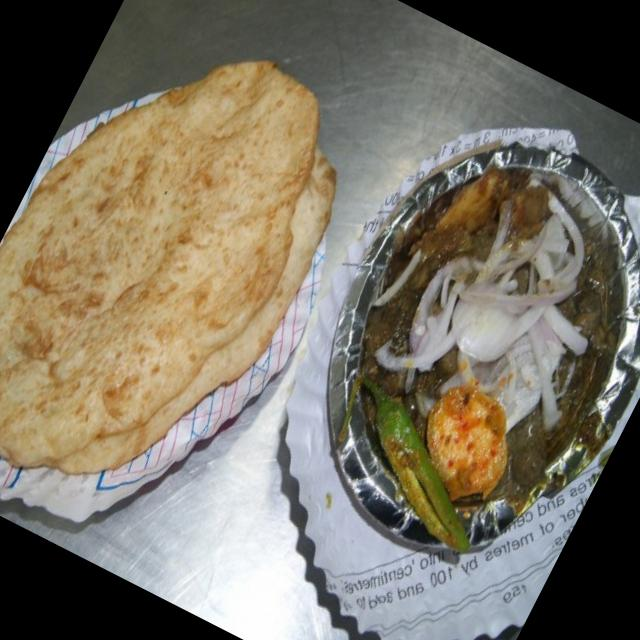Bhatura: (0, 0, 381, 543)
